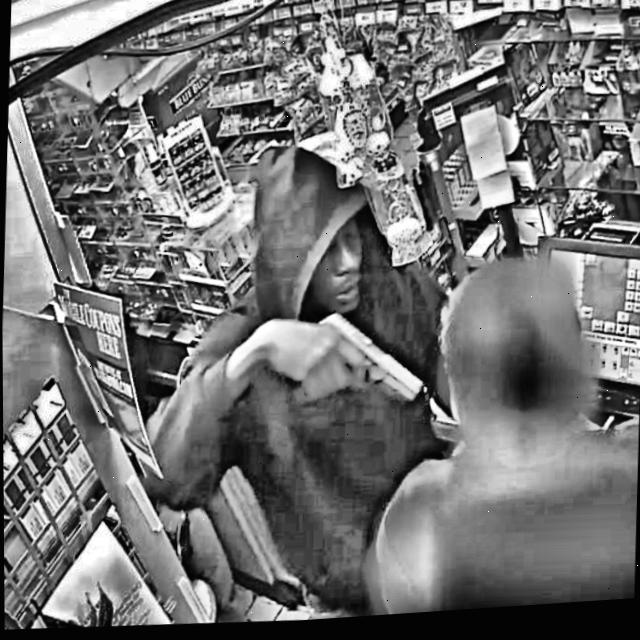pistol: (285, 291, 431, 417)
robbery: (113, 131, 638, 616)
